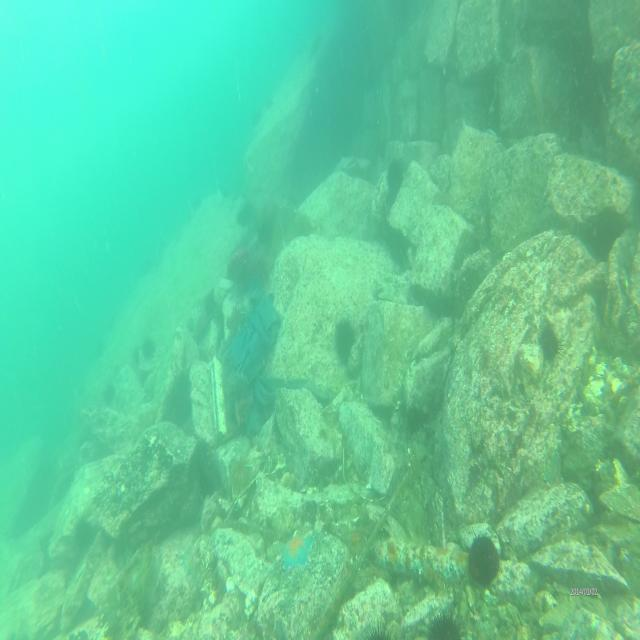echinus: (468, 532, 502, 590), (538, 319, 567, 369), (229, 452, 256, 495), (334, 318, 359, 362), (384, 153, 410, 193), (140, 336, 157, 366)
starfish: (278, 530, 314, 570)
